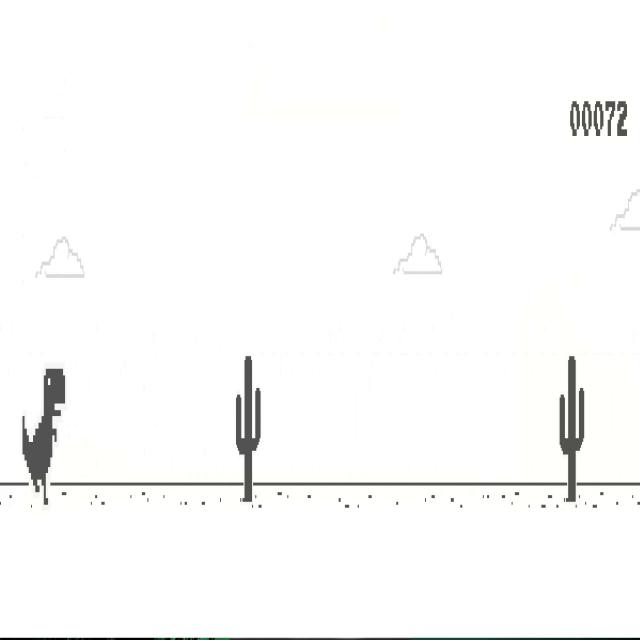cacto: (559, 354, 585, 502), (236, 354, 261, 502)
dino: (23, 368, 66, 507)
